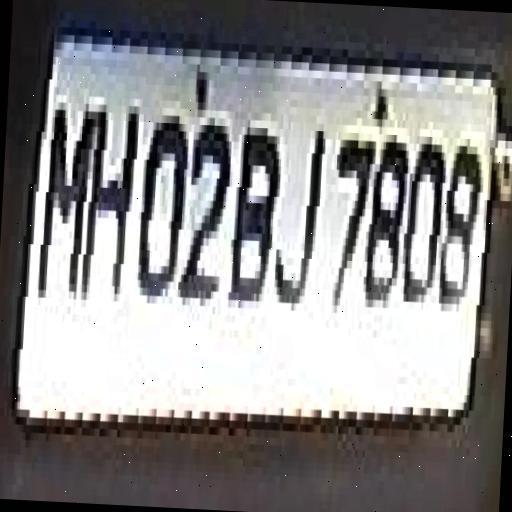number plate: (0, 0, 497, 426)
